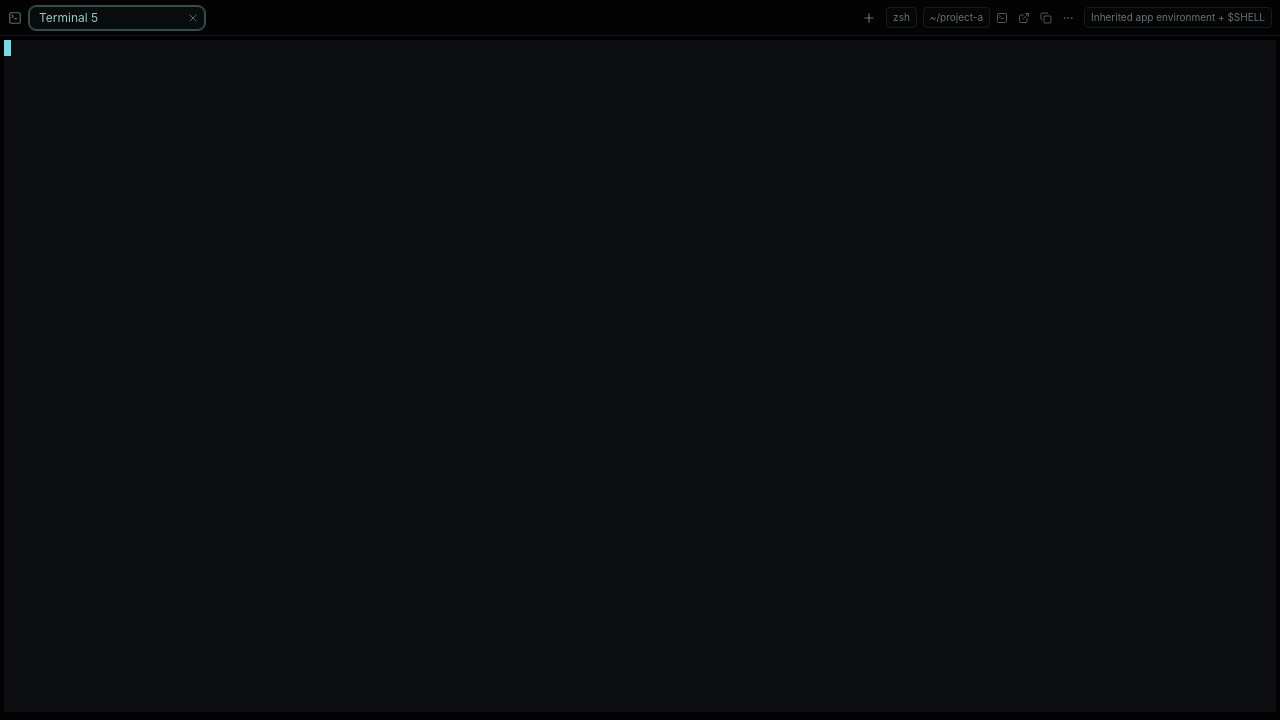
Test: shows recovery guidance when copying the terminal cwd Xolotl link fails
Click the button named "Terminal cwd automation actions": (1068, 18) [1058,8,1078,28]
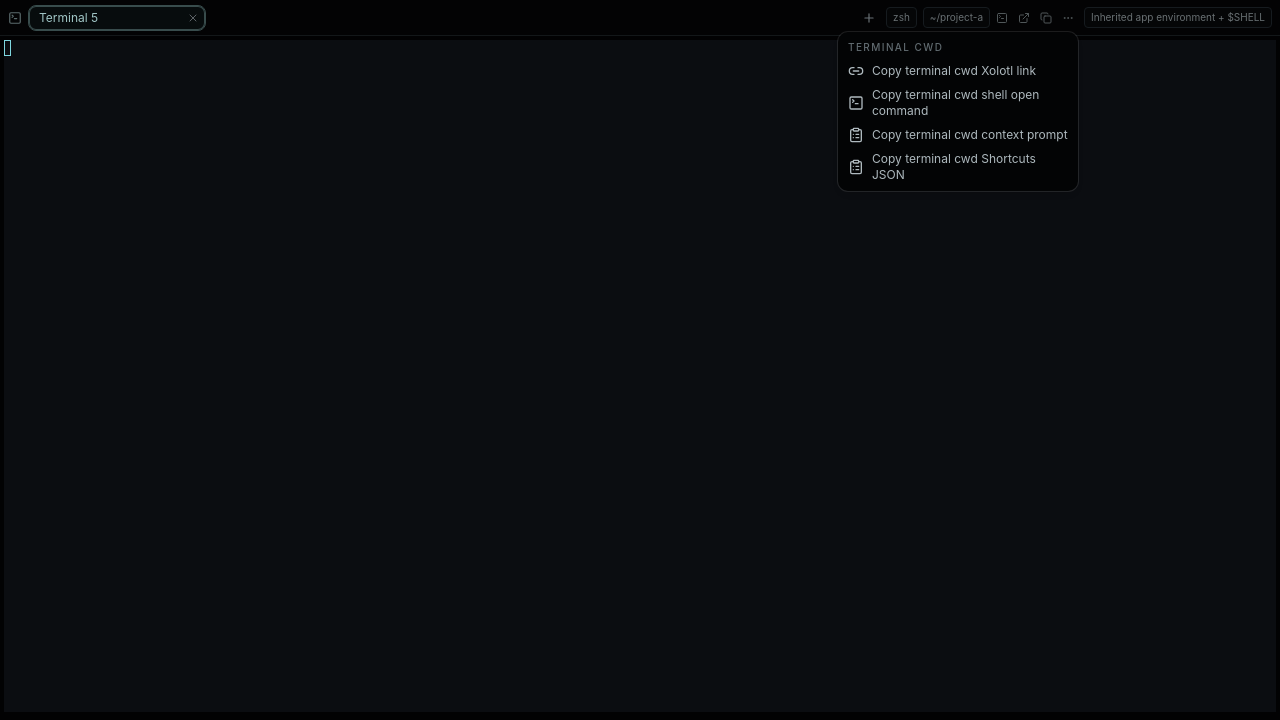
Click the menu item "Copy terminal cwd Xolotl link": (942, 71) [848,63,1036,79]
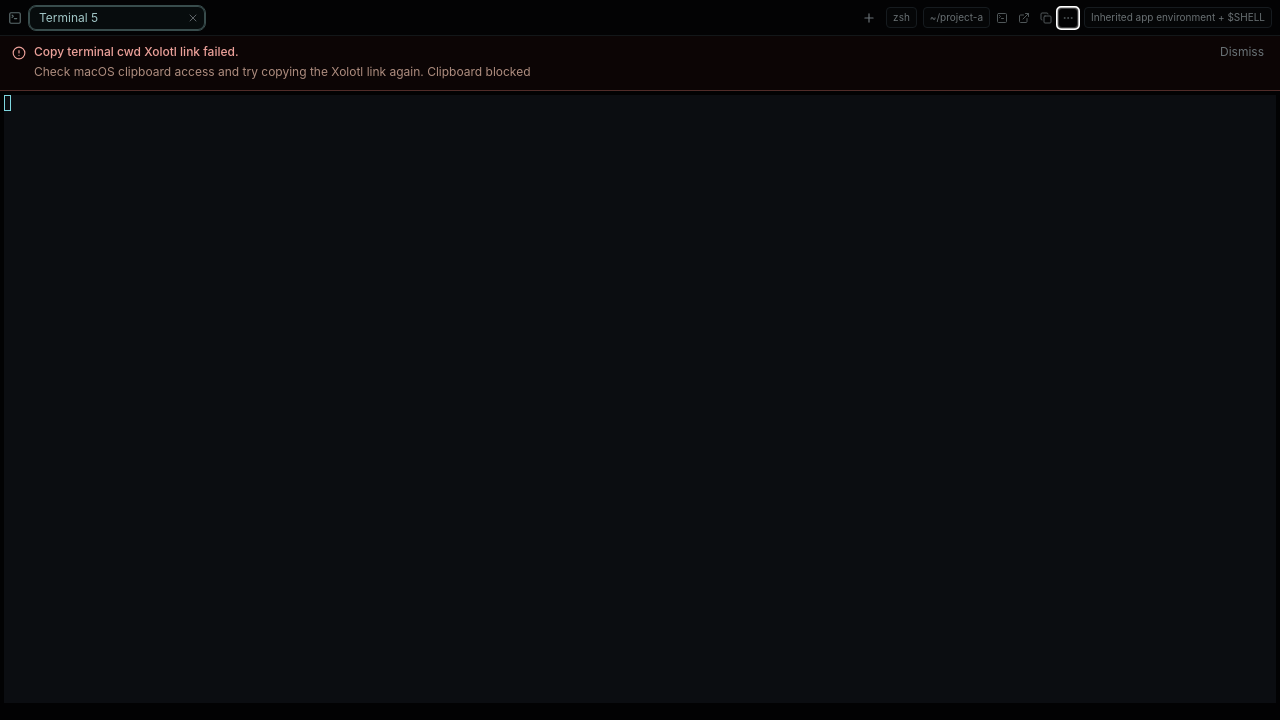
Expected: the text "Copy terminal cwd Xolotl link failed." is shown, [34,44,239,59]
Expected: the text "Clipboard blocked" is shown, [34,64,530,79]
